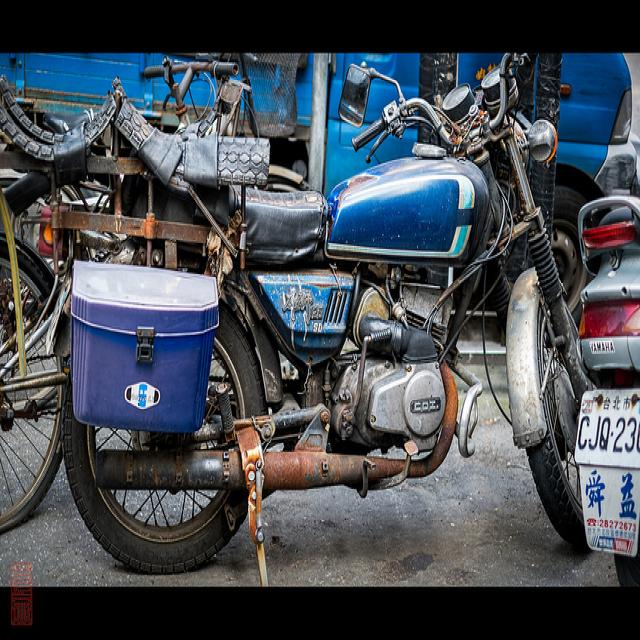motor: (55, 66, 599, 572), (573, 171, 640, 588)
